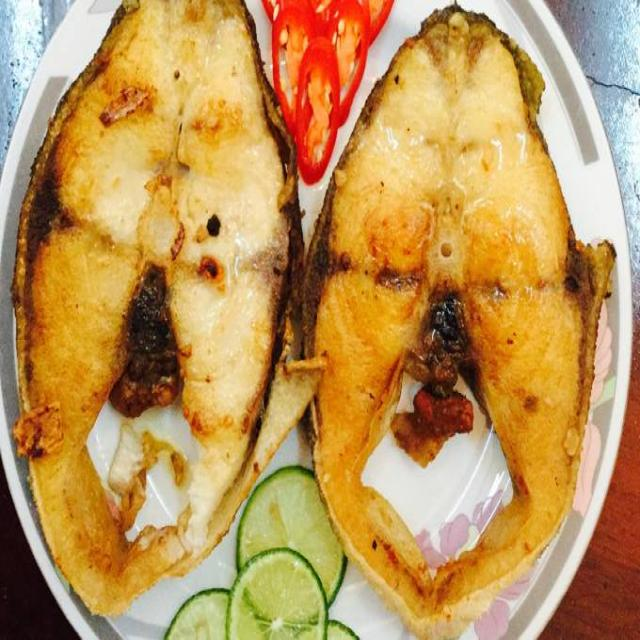ca chien: (12, 0, 318, 615), (306, 8, 586, 636)
ot: (262, 0, 393, 183)
